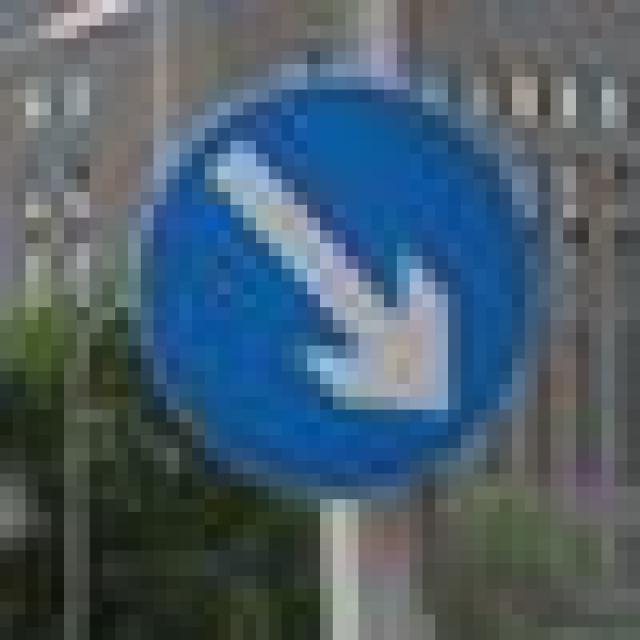COMPULSARY_KEEP_RIGHT: (102, 38, 550, 500)
